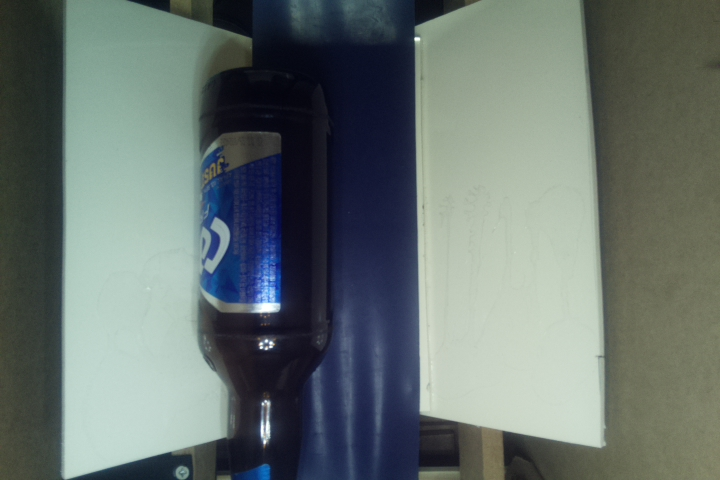makju: (194, 69, 336, 480)
